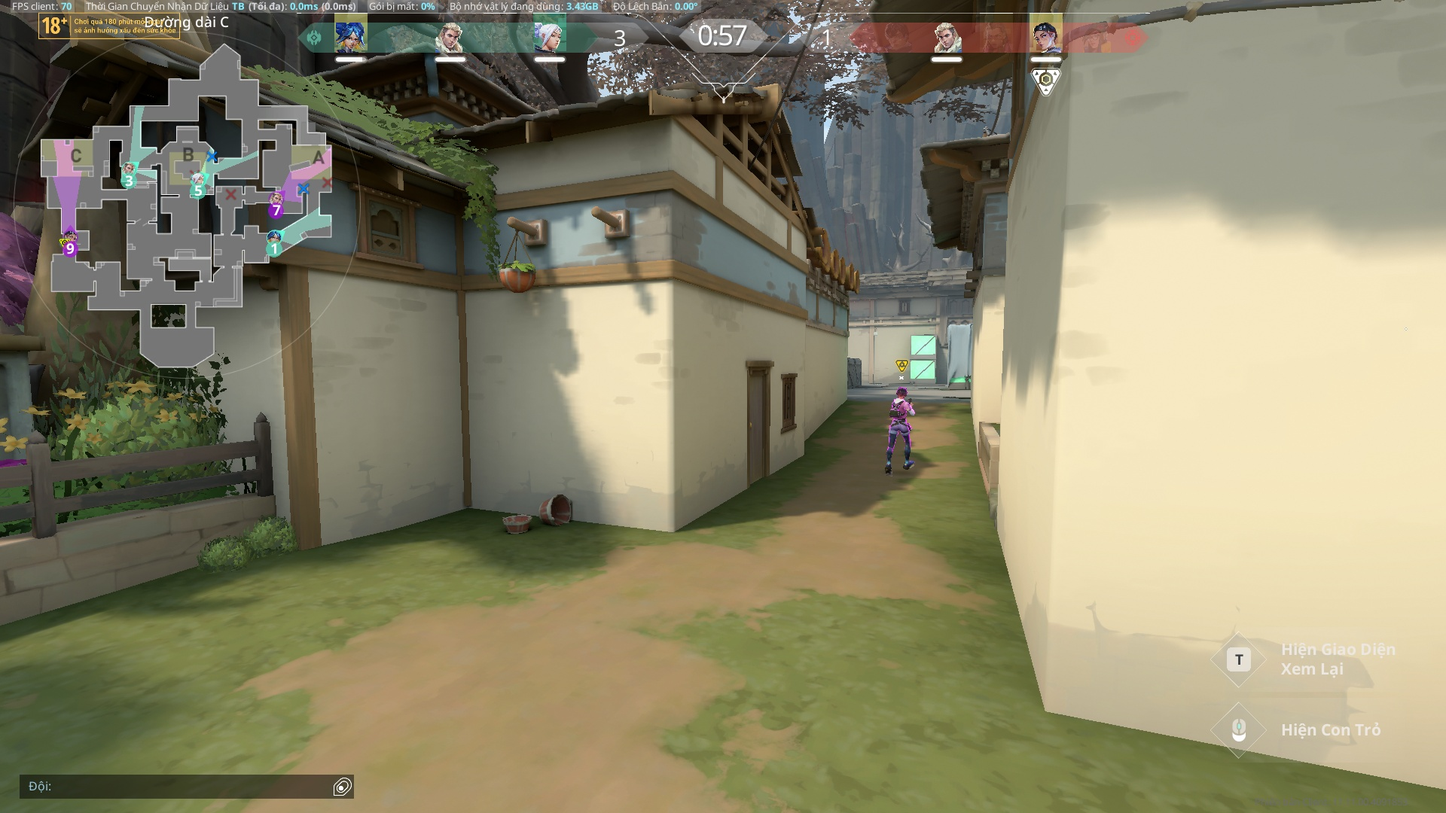body: (890, 397, 907, 419)
head: (895, 385, 908, 399)
